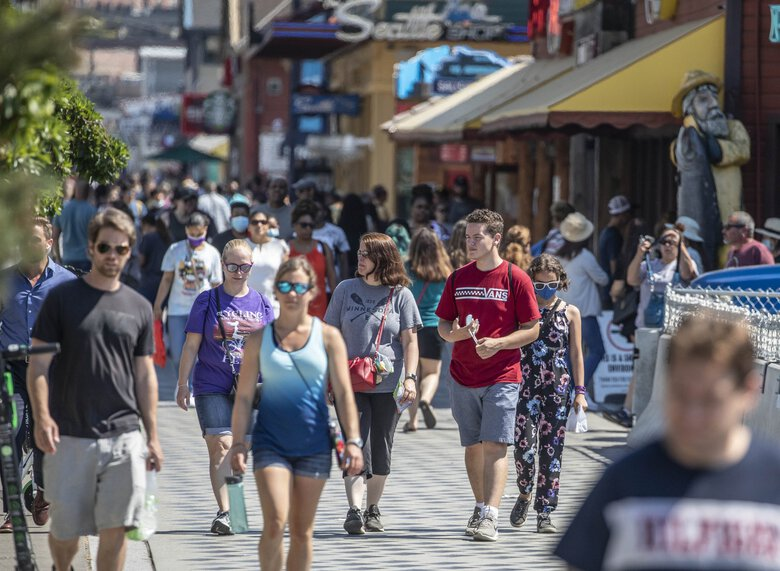with_mask: (530, 272, 562, 300)
without_mask: (91, 234, 133, 277), (275, 276, 313, 314), (462, 220, 496, 256), (222, 249, 253, 288), (353, 245, 377, 278)
